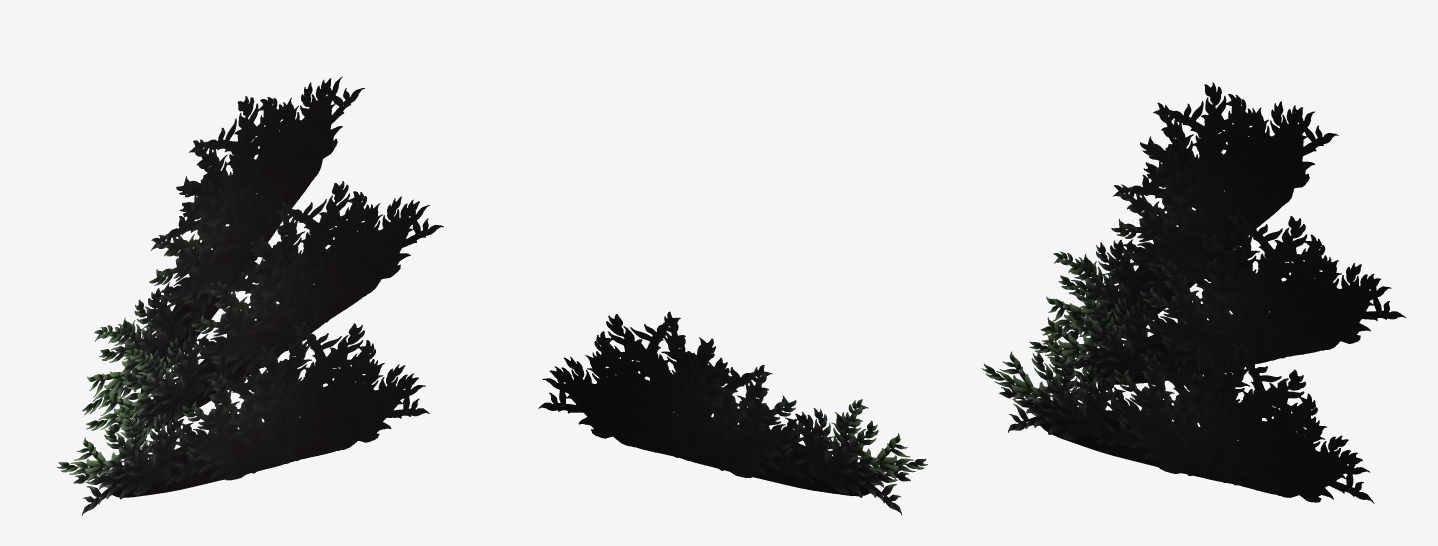
The model's file is Big Plant.FBX.
3 renders of one model, left to right at view 1: azimuth 30°, elevation 25°; view 2: azimuth 150°, elevation 25°; view 3: azimuth 330°, elevation 25°, orthographic. The views are drawn at different scales.
Parts seen in each view (by area): view 1: Big Plant; view 2: Big Plant; view 3: Big Plant.
Boxes of the visible parts, x1,y1,x2,y2 form: Big Plant: (57,76,443,515); Big Plant: (538,311,927,515); Big Plant: (982,82,1405,503).
Size of the model in its own units: 1042 by 63.15 by 1013.
